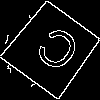C: (26, 23, 84, 82)
